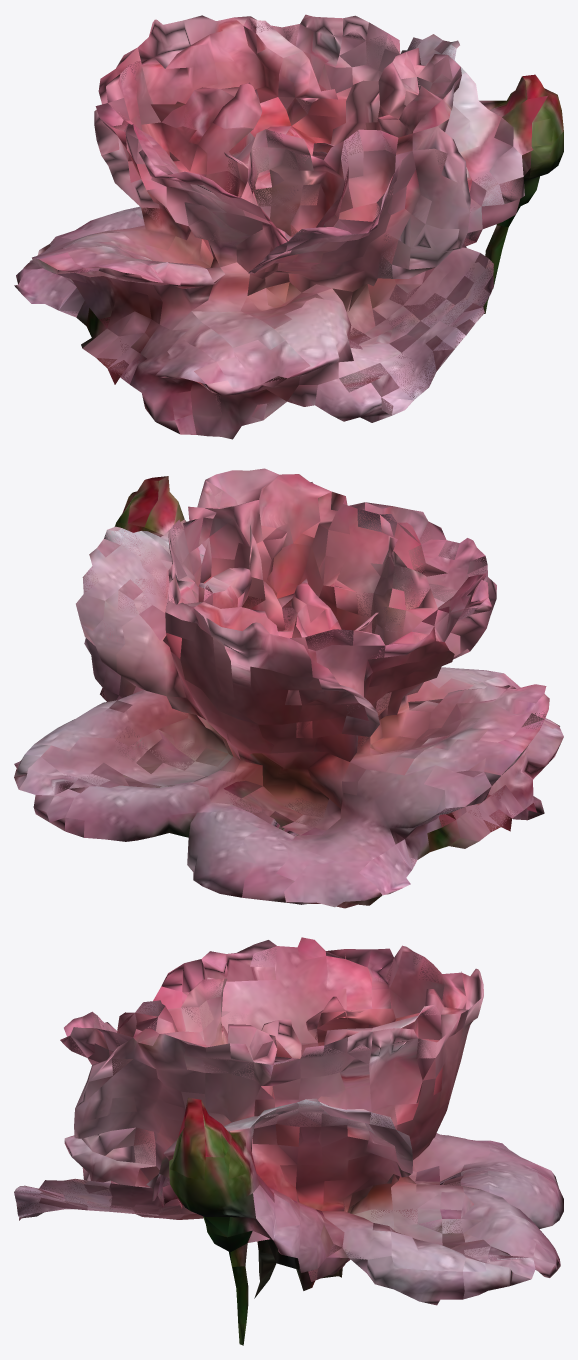
3 renders of one model, top to bottom at view 1: azimuth 30°, elevation 25°; view 2: azimuth 150°, elevation 25°; view 3: azimuth 270°, elevation 25°, orthographic. The views are drawn at different scales.
Visible parts, largest first — view 1: e5d347f3; view 2: e5d347f3; view 3: e5d347f3.
Part boxes in pixels (x1,y1,x2,y2): e5d347f3: [14, 14, 563, 439]; e5d347f3: [14, 468, 563, 908]; e5d347f3: [14, 937, 563, 1345].
Size of the model in its own units: 0.0777 by 0.0472 by 0.0777.
1 material, 1 textured.
